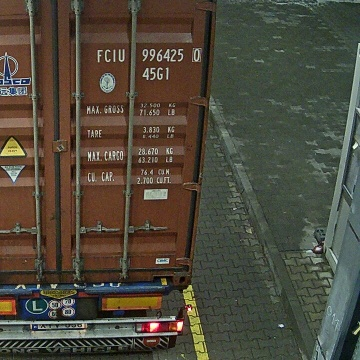serial_id: (98, 49, 200, 62)
